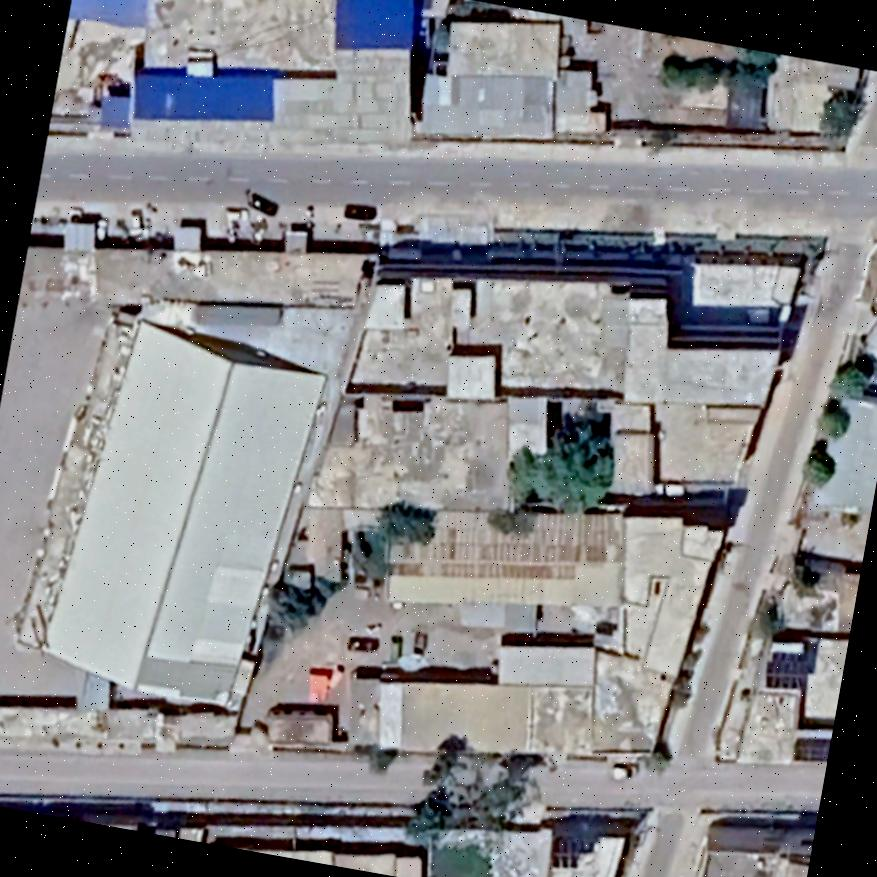Solarpanel: (758, 645, 812, 693), (547, 830, 597, 868), (790, 731, 832, 761)
